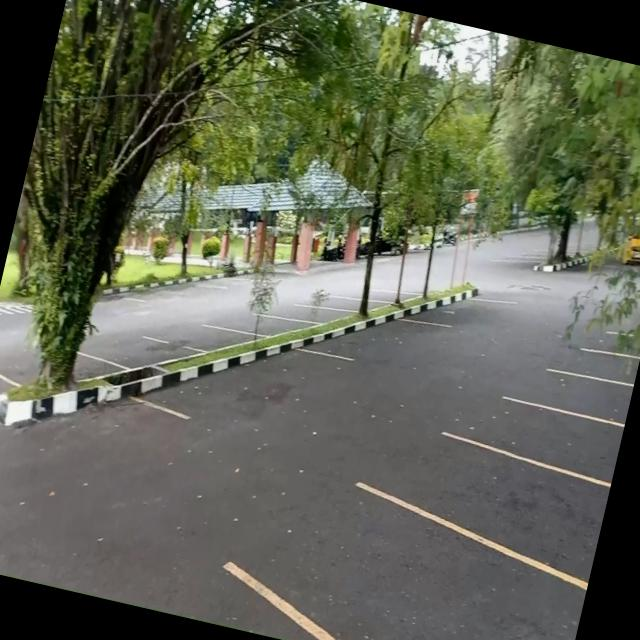free: (227, 482, 585, 640), (362, 429, 608, 587), (443, 394, 623, 488), (133, 346, 355, 418), (503, 363, 634, 432), (294, 311, 449, 367), (79, 329, 196, 368), (157, 315, 269, 350), (550, 349, 639, 386), (209, 308, 312, 338), (306, 290, 393, 314), (270, 300, 352, 320)
